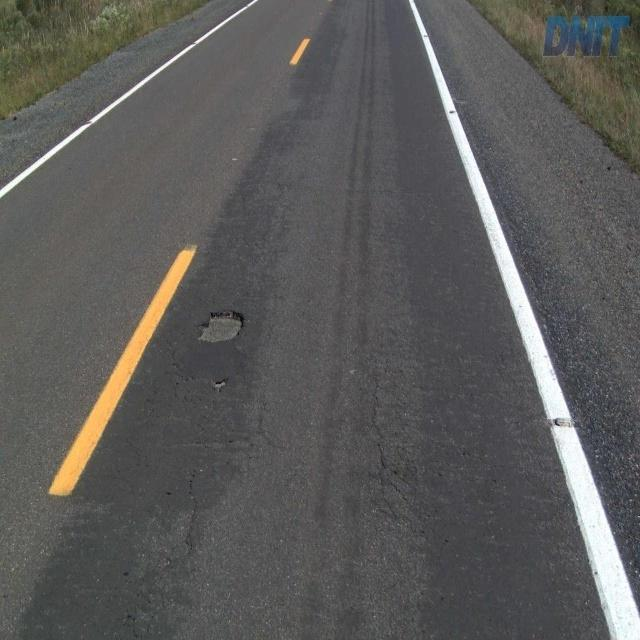pothole: (192, 303, 245, 348), (208, 375, 230, 393)
